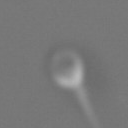normal: (77, 83, 100, 127)
